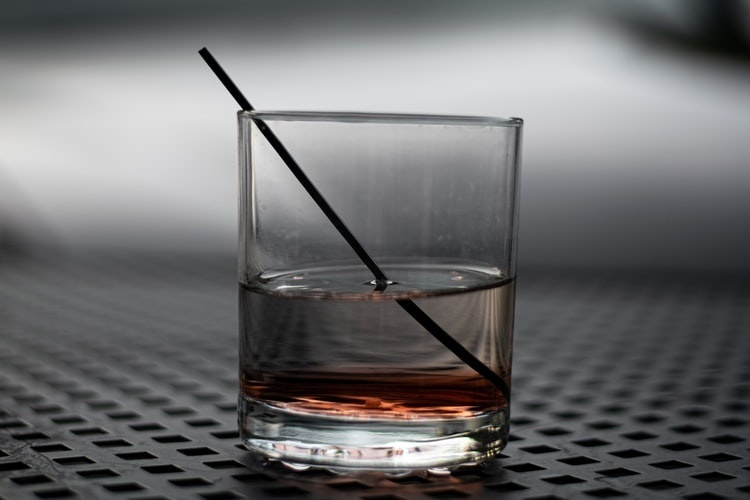whiskey: (226, 116, 528, 461)
